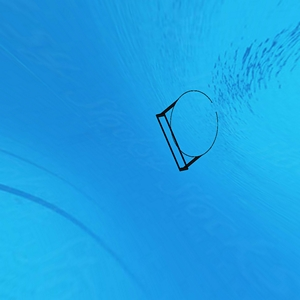circle: (155, 89, 220, 175)
